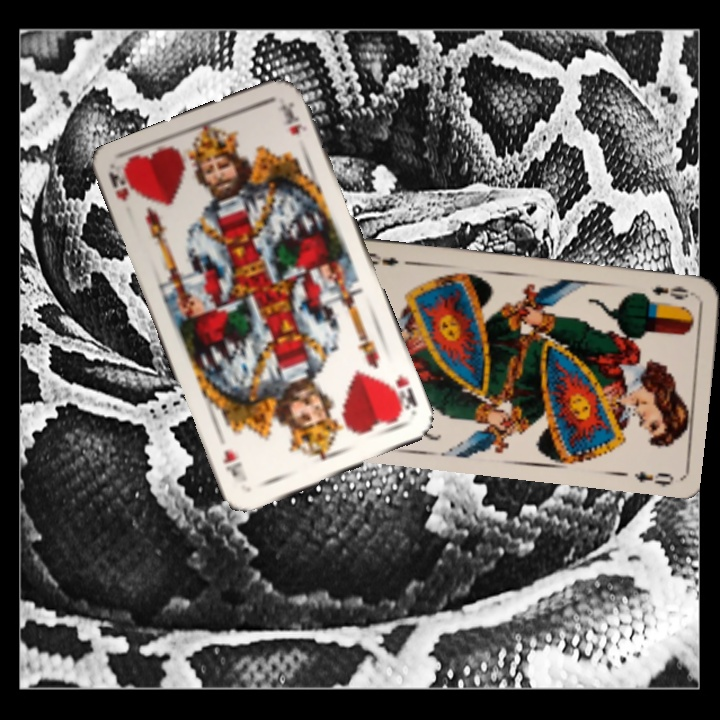EO: (648, 281, 698, 303)
HK: (384, 370, 420, 422), (104, 164, 134, 203)
